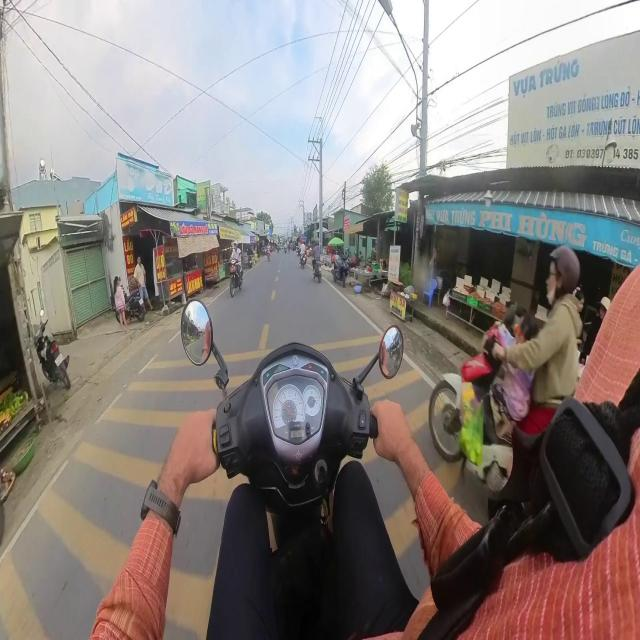motorcycle: (181, 300, 402, 637), (429, 327, 512, 492), (35, 310, 70, 389), (125, 289, 145, 321), (333, 256, 349, 287), (230, 259, 242, 297), (314, 259, 321, 282), (300, 253, 306, 268)
